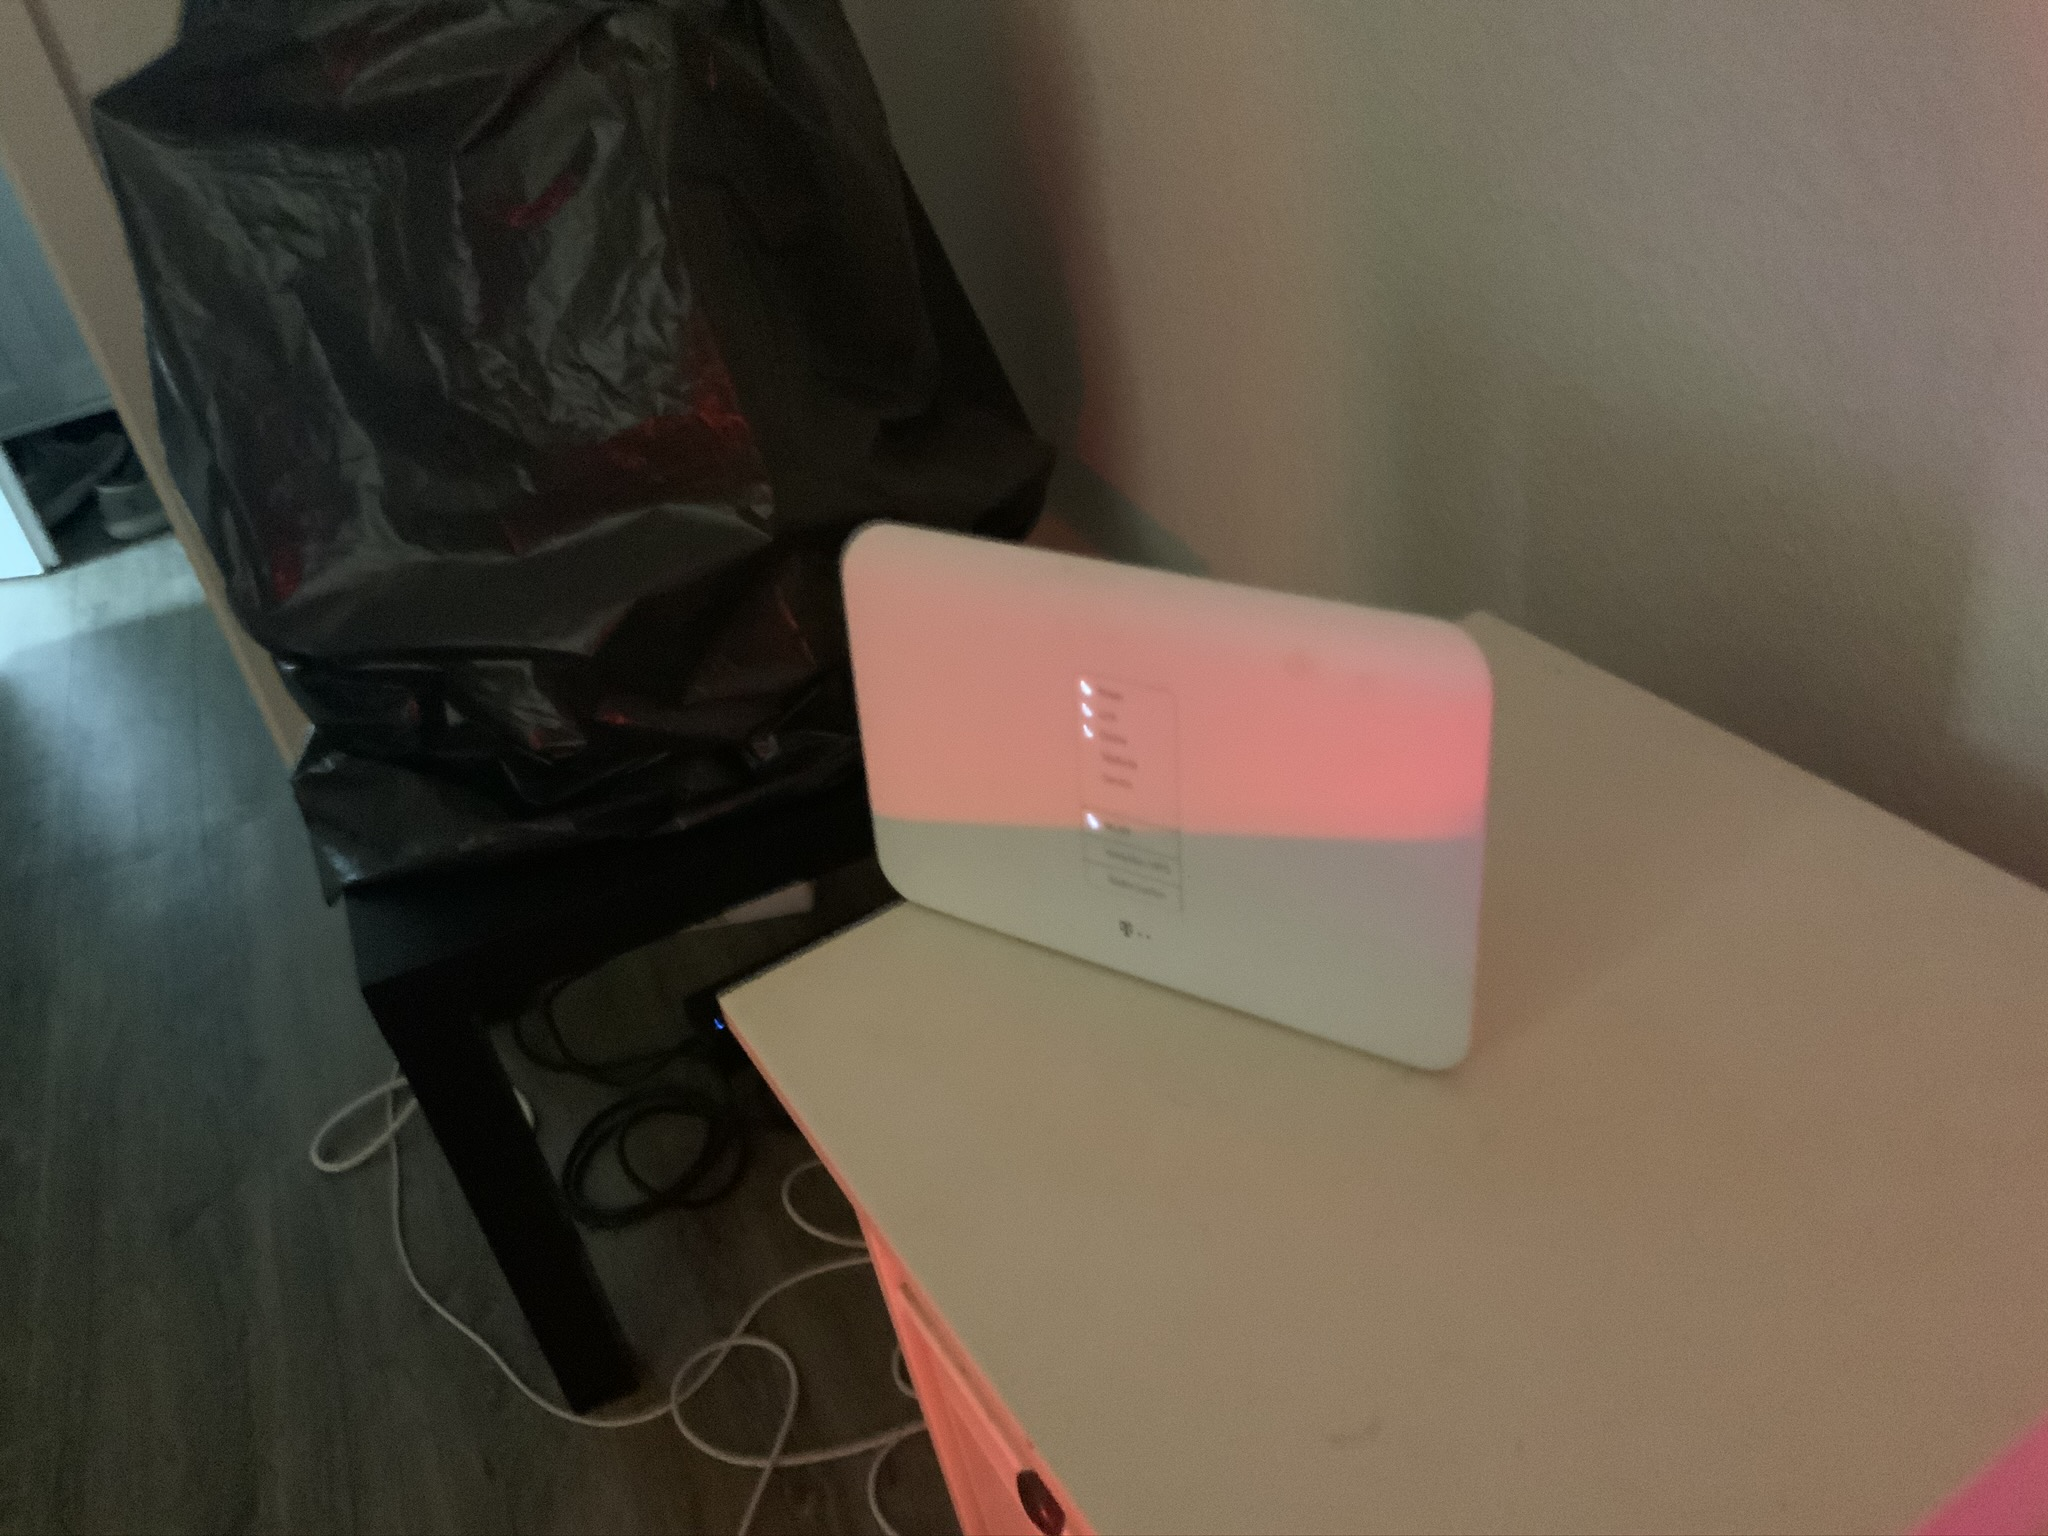router: (829, 511, 1500, 1084)
